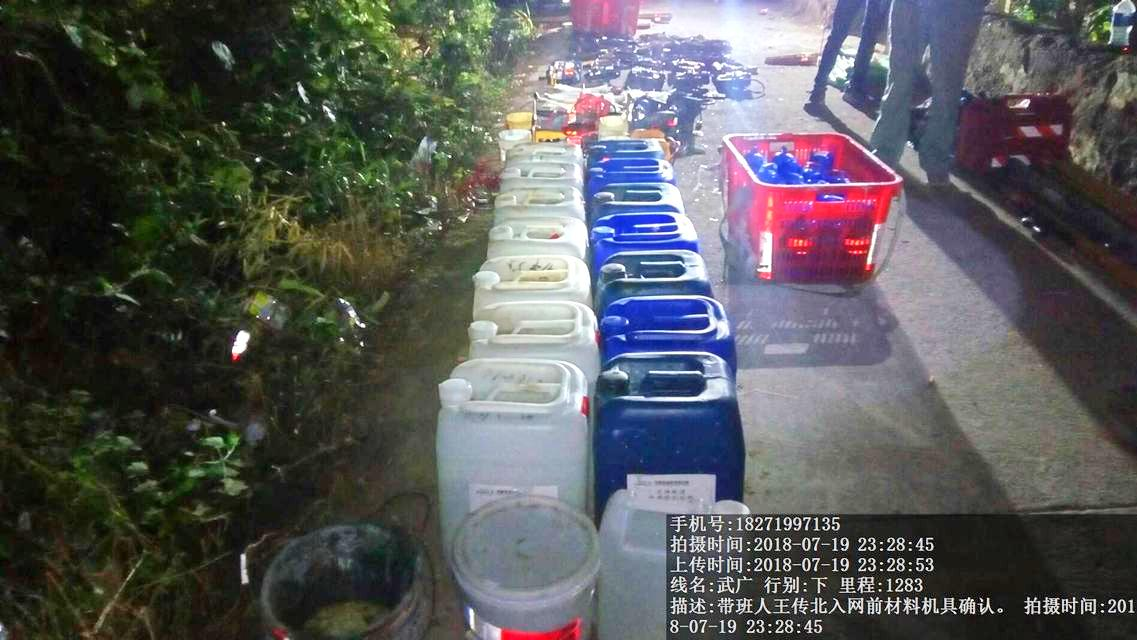SLT: (432, 347, 595, 497), (592, 358, 759, 485), (603, 291, 742, 355), (461, 291, 601, 351), (591, 239, 727, 295), (472, 246, 594, 291)
